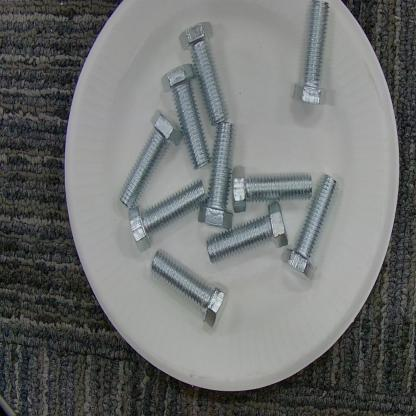FOD: (118, 0, 357, 334)
